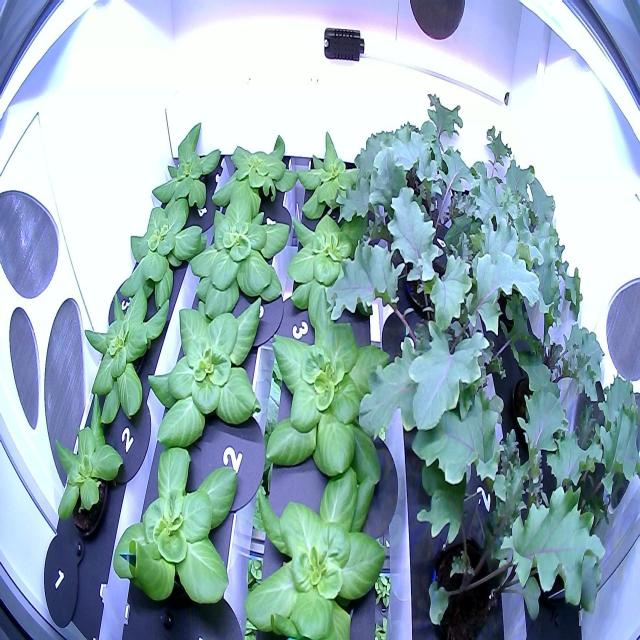young: (256, 282, 406, 492), (239, 457, 398, 639), (108, 437, 248, 621), (141, 286, 271, 463), (184, 180, 301, 323), (284, 195, 380, 344), (44, 386, 131, 546), (82, 283, 173, 429), (114, 185, 207, 319), (294, 125, 376, 239), (204, 128, 302, 223), (146, 120, 228, 222)
